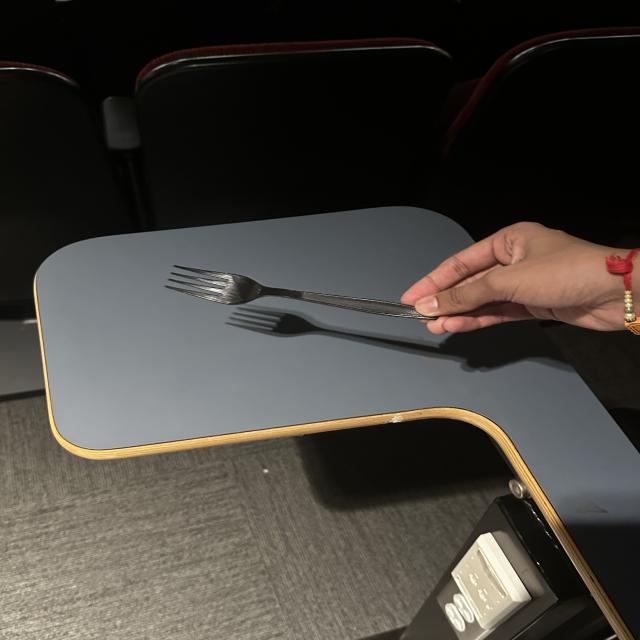fork: (122, 237, 474, 357)
